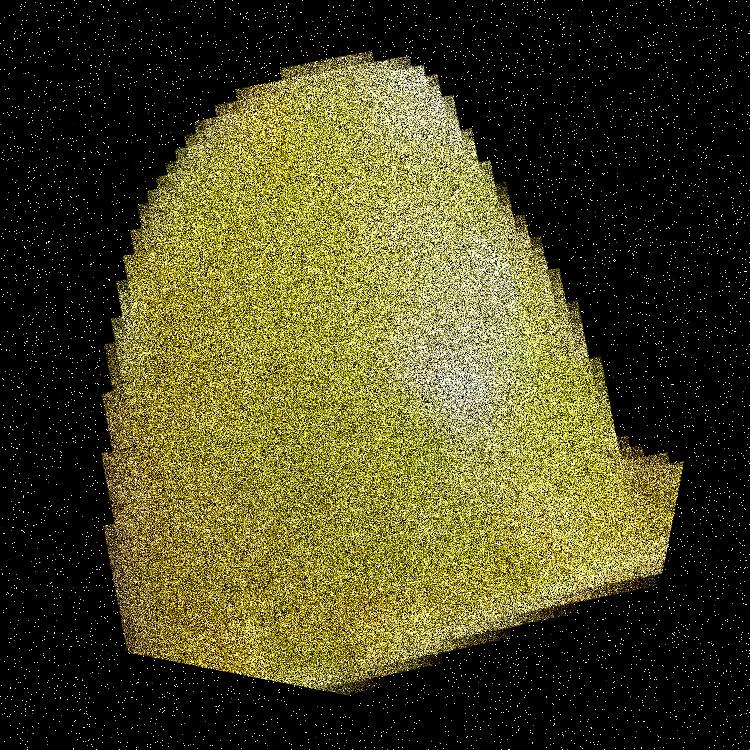Capacete: (178, 0, 577, 749)
